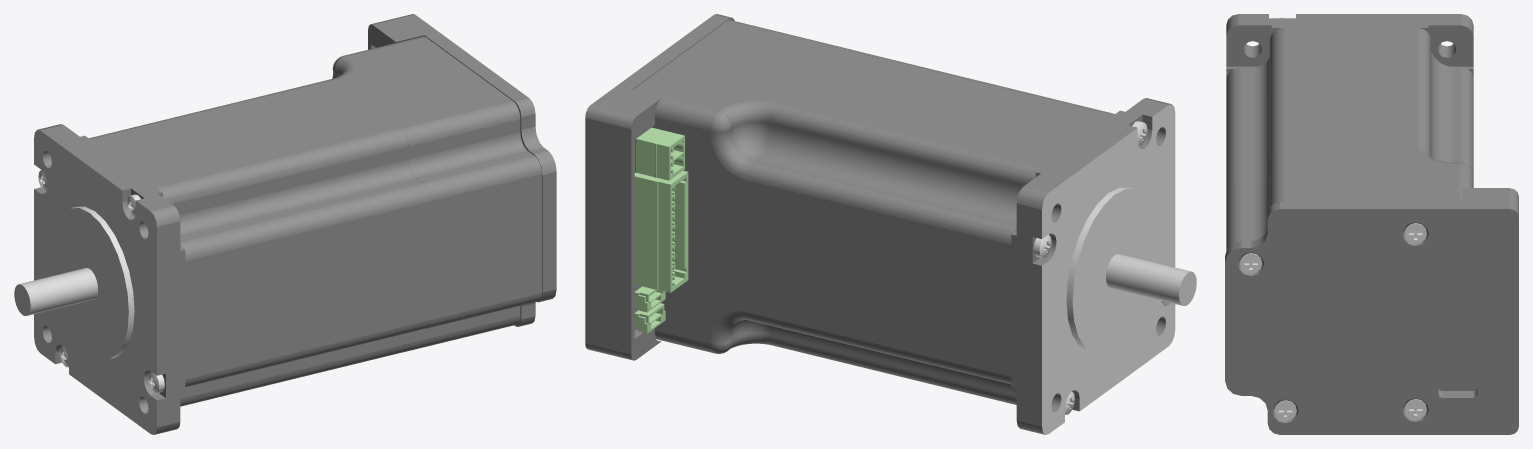
3 renders of one model, left to right at view 1: azimuth 30°, elevation 25°; view 2: azimuth 150°, elevation 25°; view 3: azimuth 270°, elevation 25°, orthographic. The views are drawn at different scales.
Parts seen in each view (by area): view 1: _PD4-C6018L4204-E10000076_0, _Shaft_9_sh10000077_0; view 2: _PD4-C6018L4204-E10000076_0, _Shaft_9_sh10000077_0; view 3: _PD4-C6018L4204-E10000076_0.
Boxes of the visible parts, box(x1,y1,x2,y2) form: _PD4-C6018L4204-E10000076_0: box(34, 14, 556, 434); _Shaft_9_sh10000077_0: box(14, 268, 97, 315); _PD4-C6018L4204-E10000076_0: box(585, 14, 1175, 434); _Shaft_9_sh10000077_0: box(1106, 254, 1196, 305); _PD4-C6018L4204-E10000076_0: box(1225, 14, 1518, 434).
Bounding box in the file's own units: 0.1331 × 0.0605 × 0.0713.
